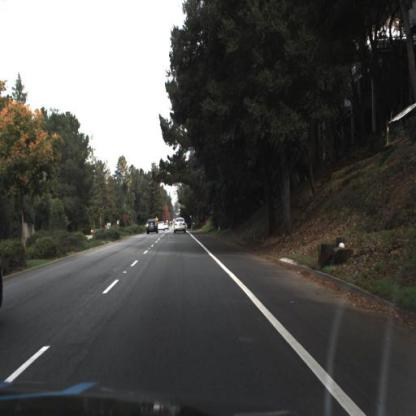car: (170, 215, 191, 238), (146, 218, 161, 240), (159, 220, 168, 234)
